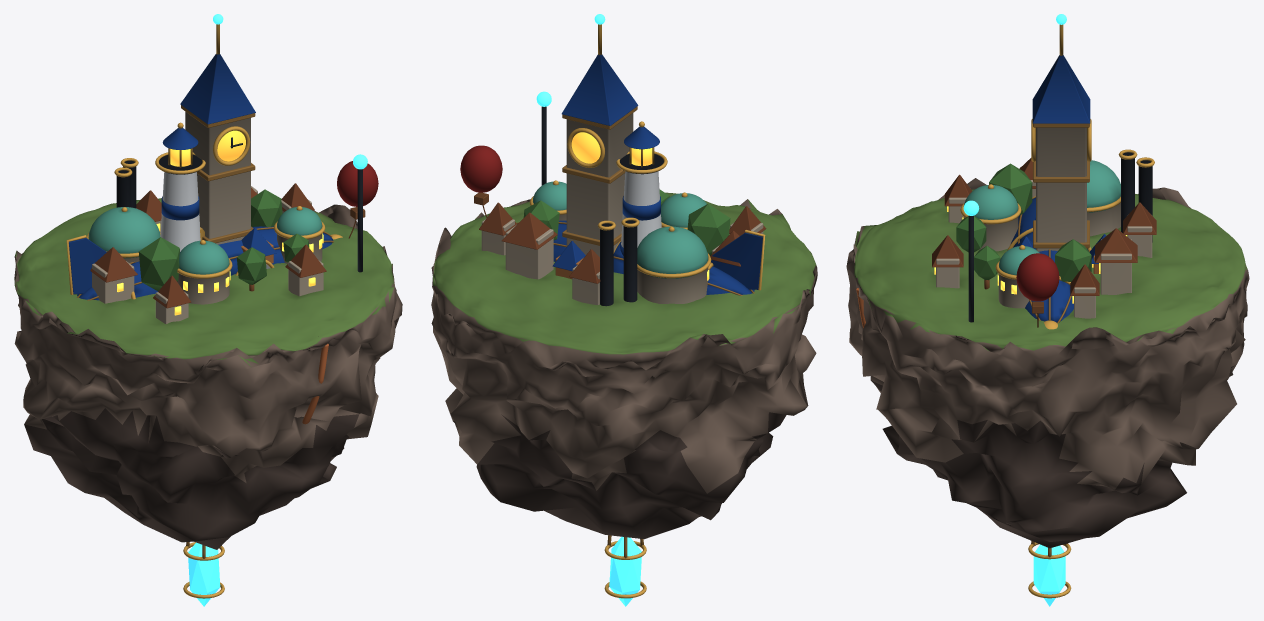
File: skyprops.glb
3 renders of one model, left to right at view 1: azimuth 30°, elevation 25°; view 2: azimuth 150°, elevation 25°; view 3: azimuth 270°, elevation 25°, orthographic. The views are drawn at different scales.
Visible parts, largest first — view 1: IslandA_Body, IslandB_Body, Airship_Body; view 2: IslandA_Body, IslandB_Body, Airship_Body; view 3: IslandA_Body, IslandB_Body, Airship_Body.
Boxes of the visible parts, box(x1,y1,x2,y2) form: IslandA_Body: box(14, 14, 402, 606); IslandB_Body: box(138, 122, 378, 291); Airship_Body: box(66, 226, 342, 300); IslandA_Body: box(431, 14, 817, 606); IslandB_Body: box(460, 121, 730, 279); Airship_Body: box(516, 220, 765, 295); IslandA_Body: box(846, 14, 1249, 606); IslandB_Body: box(956, 163, 1106, 327); Airship_Body: box(1004, 196, 1091, 329).
Bounding box in the file's own units: 10.68 × 16.97 × 10.29.
